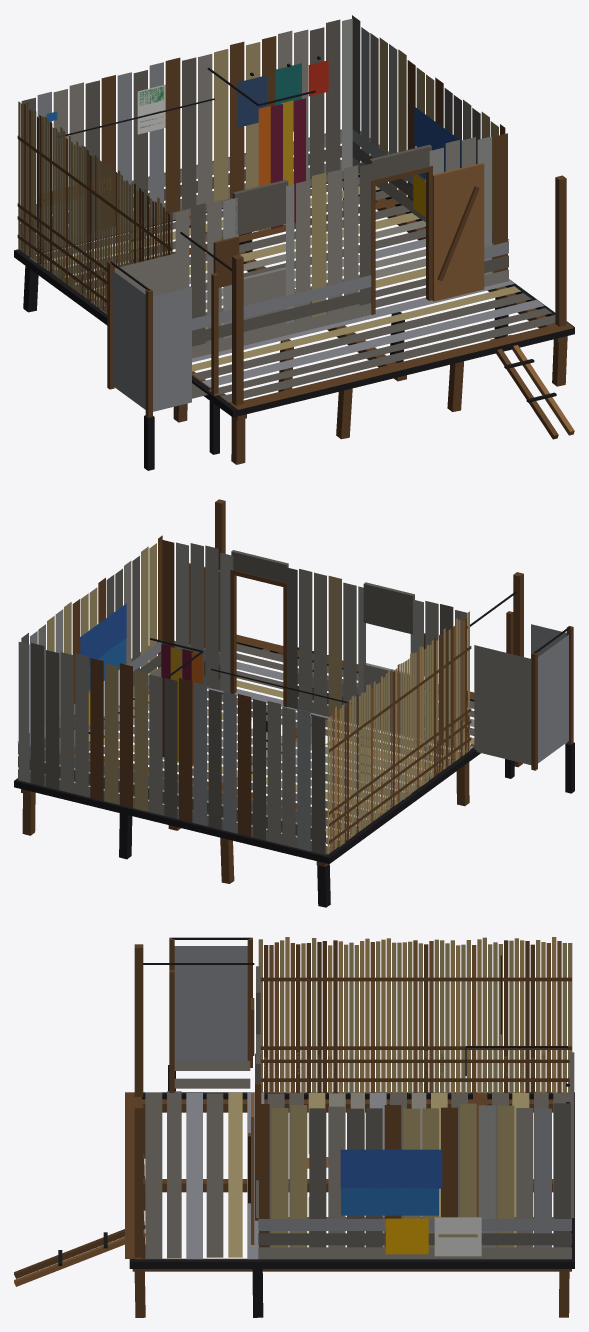
File: building_makoko-room.f1fdb3849aa5.glb
3 renders of one model, top to bottom at view 1: azimuth 30°, elevation 25°; view 2: azimuth 150°, elevation 25°; view 3: azimuth 270°, elevation 25°, orthographic. The views are drawn at different scales.
Parts seen in each view (by area): view 1: body, wall_back_full, wall_front_full, wall_left_full, wall_right_full, wall_front_low, wall_left_low, wall_right_low, wall_back_low; view 2: wall_back_full, body, wall_front_full, wall_left_full, wall_right_full, wall_left_low, wall_back_low, wall_front_low, wall_right_low; view 3: body, wall_left_full, wall_right_full, wall_right_low, wall_left_low, wall_front_full, wall_back_low.
Part boxes in pixels (x1,y1,x2,y2): body: (14,68,574,470); wall_back_full: (21,18,352,248); wall_front_full: (175,133,507,346); wall_left_full: (17,101,172,313); wall_right_full: (352,15,505,259); wall_front_low: (192,165,508,358); wall_left_low: (17,214,107,313); wall_right_low: (352,129,509,271); wall_back_low: (20,129,341,249); wall_back_full: (18,642,325,854); body: (14,499,574,907); wall_front_full: (162,540,467,749); wall_left_full: (327,611,471,854); wall_right_full: (21,535,162,740); wall_left_low: (327,714,471,852); wall_back_low: (18,743,327,855); wall_front_low: (174,569,467,750); wall_right_low: (17,640,162,772); body: (14,937,574,1317); wall_left_full: (258,937,572,1093); wall_right_full: (259,1103,570,1256); wall_right_low: (258,1217,571,1259); wall_left_low: (261,1050,569,1092); wall_front_full: (248,966,261,1244); wall_back_low: (569,1052,574,1217).
Bounding box in the file's own units: 6.11 × 3.05 × 7.15.
